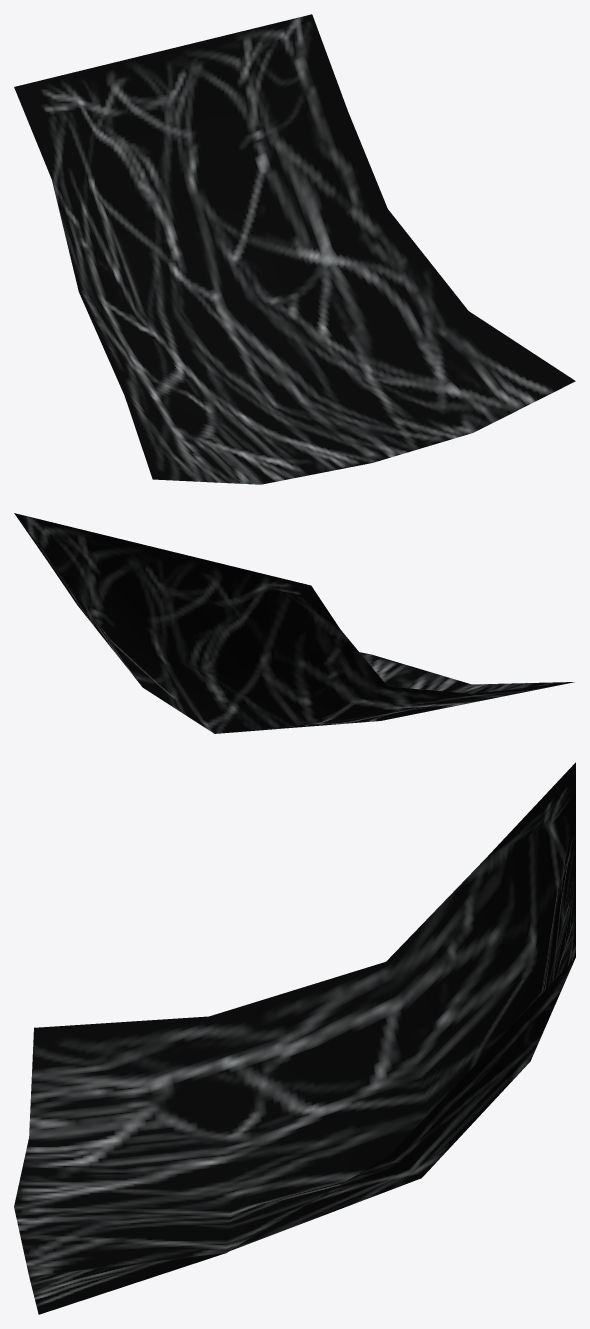
The picture shows the model from 3 angles, top to bottom: view 1: azimuth 30°, elevation 25°; view 2: azimuth 150°, elevation 25°; view 3: azimuth 270°, elevation 25°; orthographic projection. The views are drawn at different scales.
Parts seen in each view (by area): view 1: tx47; view 2: tx47; view 3: tx47.
Part boxes in pixels (left/top/right/bottom): tx47: left=14, top=14, right=575, bottom=484; tx47: left=14, top=513, right=574, bottom=733; tx47: left=14, top=762, right=575, bottom=1314.
Bounding box in the file's own units: 1538 × 900 × 1313.
Materials: 1 (1 with a texture image).
